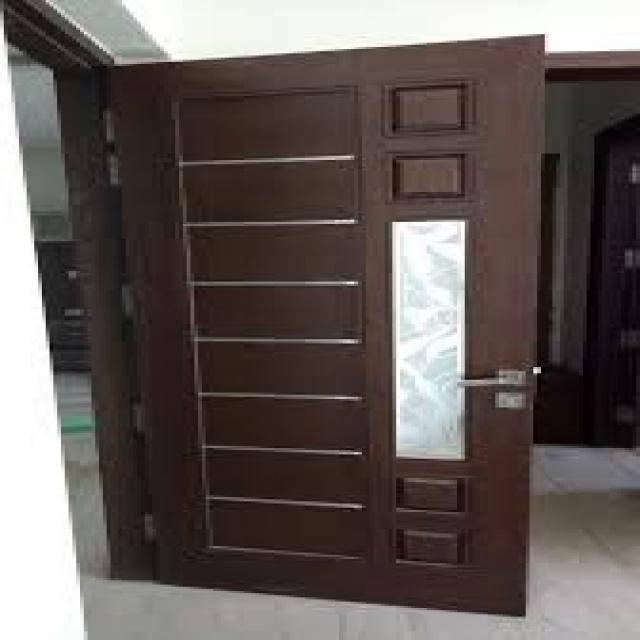door: (83, 22, 555, 628)
